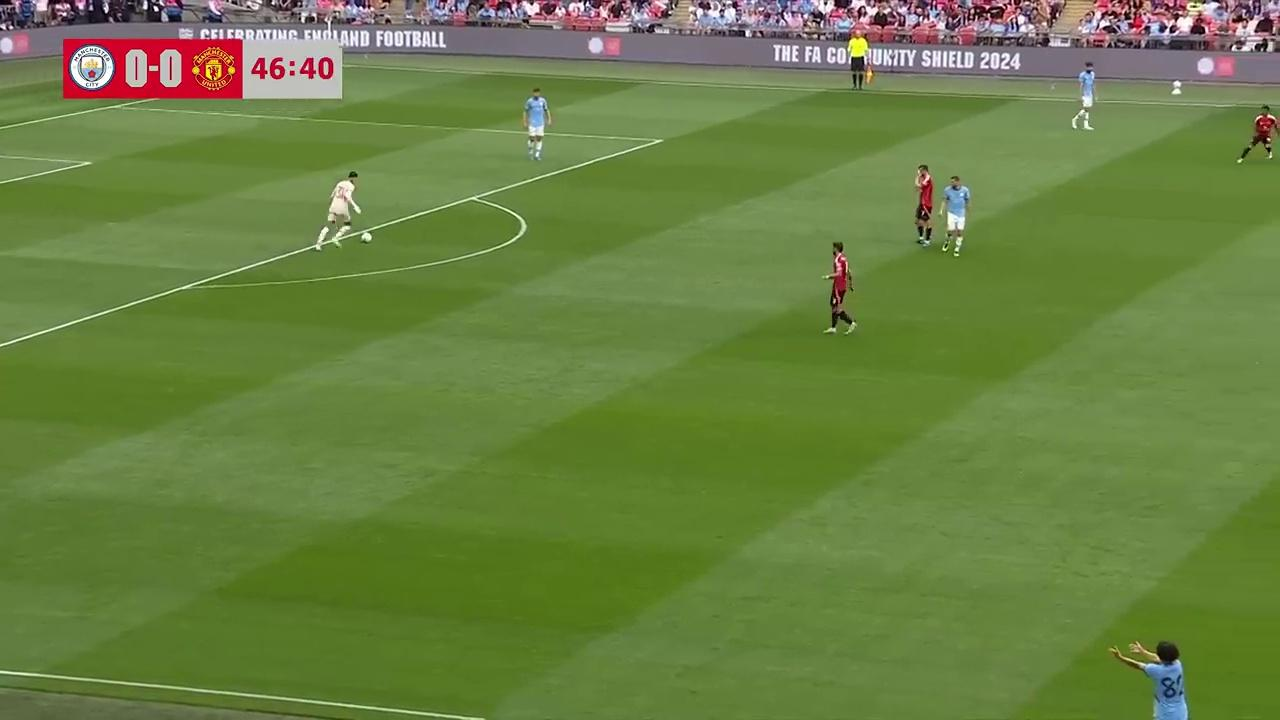ball: (360, 228, 373, 244)
player: (1113, 630, 1197, 720), (313, 172, 361, 251), (822, 241, 856, 334), (941, 174, 971, 257), (1237, 106, 1279, 163), (521, 89, 551, 161), (913, 163, 935, 245), (1072, 63, 1097, 130)
referee: (848, 32, 873, 90)
